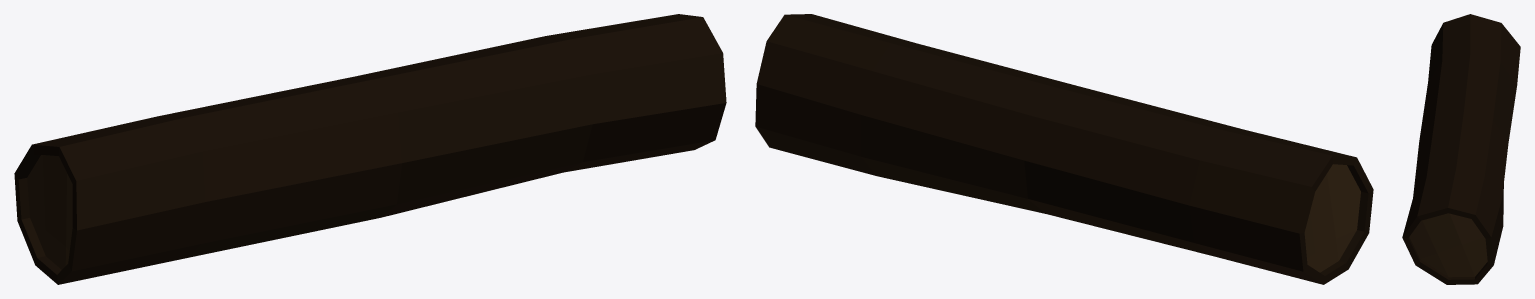
Rendered from Log04_FBX.fbx.
3 renders of one model, left to right at view 1: azimuth 30°, elevation 25°; view 2: azimuth 150°, elevation 25°; view 3: azimuth 270°, elevation 25°, orthographic. The views are drawn at different scales.
Parts seen in each view (by area): view 1: LOG 4; view 2: LOG 4; view 3: LOG 4.
Part boxes in pixels (bbox=[...]): LOG 4: bbox=[14, 14, 726, 284]; LOG 4: bbox=[755, 14, 1373, 284]; LOG 4: bbox=[1402, 14, 1520, 284].
Size of the model in its own units: 109 by 22.75 by 28.46.
